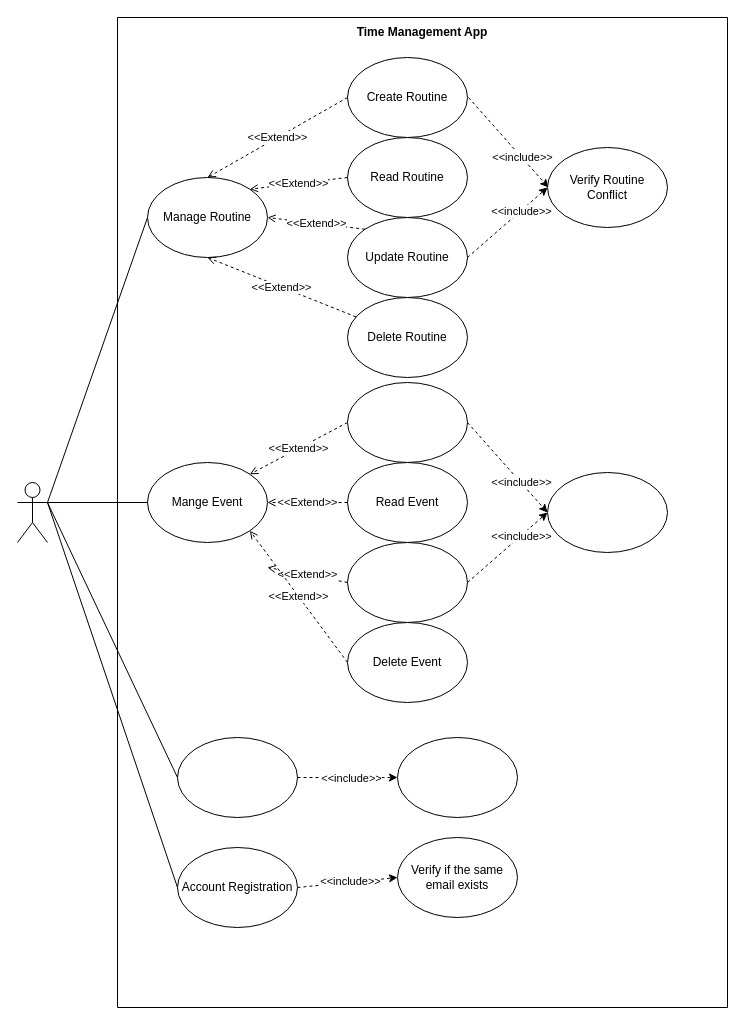
Image size: 745x1025. Some labels were removed from this diagram. The centre of each missing label's shape, as x and y in pixels:
"Create Event" goes at [407,422].
"Login" goes at [237,777].
"Update Event" goes at [407,582].
"User" goes at [32,512].
"Verify Event Conflict" goes at [607,512].
"Verify Login credential" goes at [457,777].
